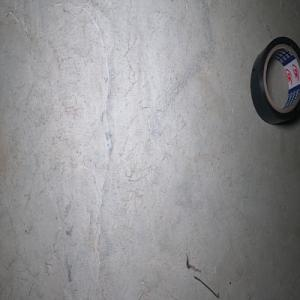Tape: (250, 36, 300, 125)
